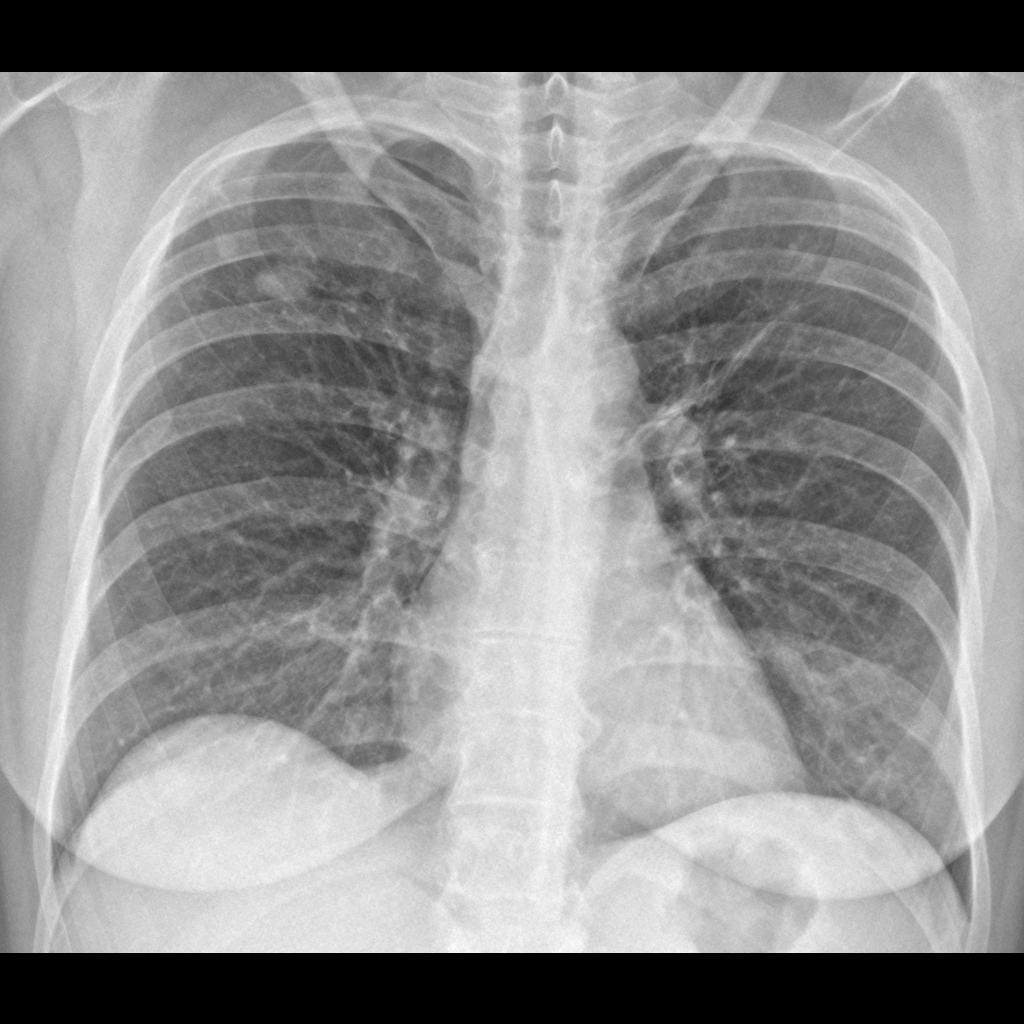Nodule: (239, 251, 318, 318)
